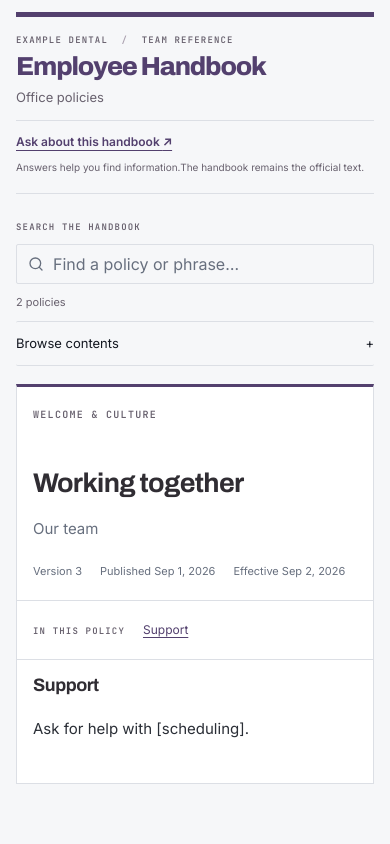
Scenario: employee handbook reader › finds body matches, escapes special characters, shows excerpts and clears results
The width and height of the screenshot is (390, 844).
In the field labelled "Search the handbook": (195, 264) [16,244,374,284], type "[scheduling]"
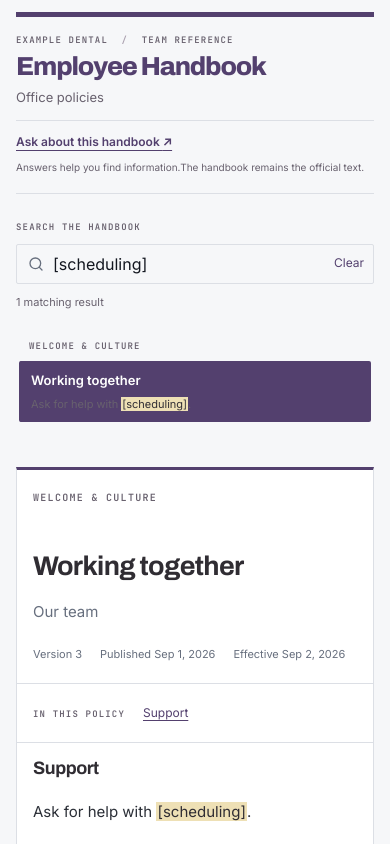
Expected: the message reads "1 matching result", [16,295,104,309]
Expected: the button "Working together Ask for help with [scheduling]." is shown, [19,361,371,422]
Replace the text in the field labelled "Search the handbook" with "nothing matches": (195, 264) [16,244,374,284]
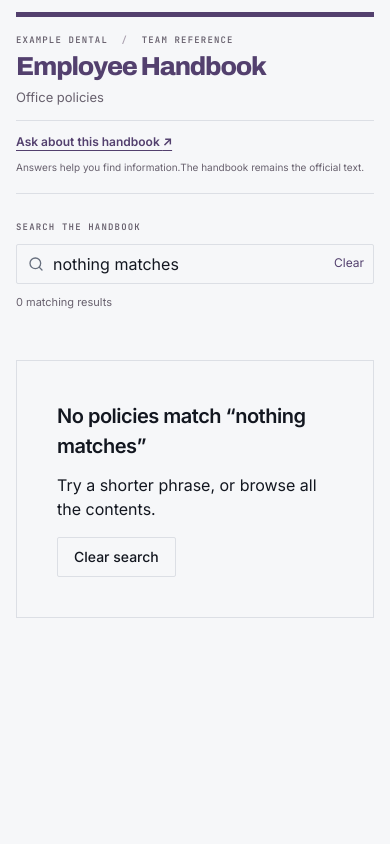
Expected: the heading "No policies match “nothing matches”" is shown, [57,401,333,461]
Click the button "Clear search": (116, 557) [57,537,176,577]
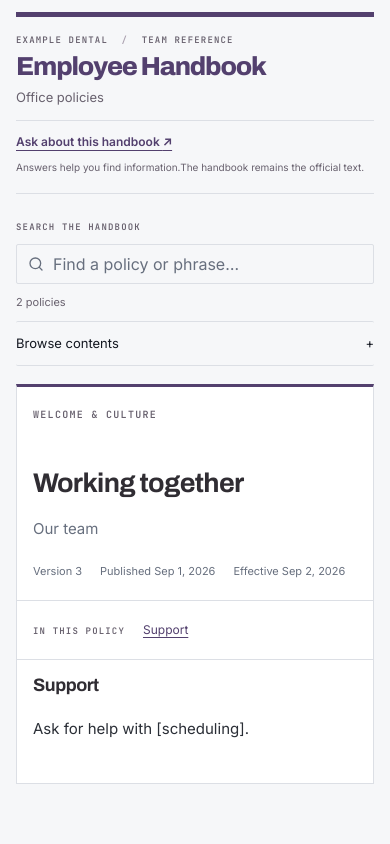
Expected: the message reads "2 policies", [16,295,66,309]
